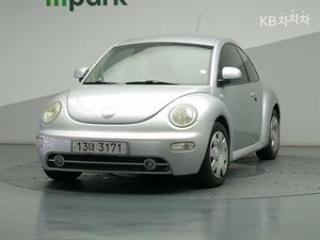1: (76, 141, 82, 152), (117, 142, 122, 153), (105, 142, 110, 152)
3: (98, 142, 105, 153), (82, 141, 88, 152)
7: (110, 143, 117, 152)
plate: (67, 137, 133, 160)
더: (88, 142, 95, 152)
